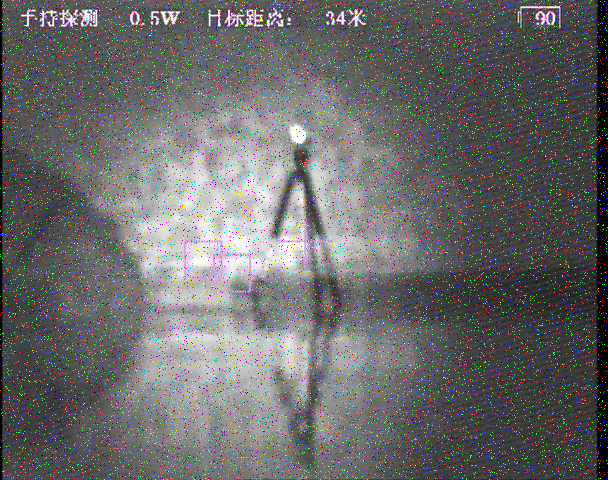my: (288, 122, 309, 147)
